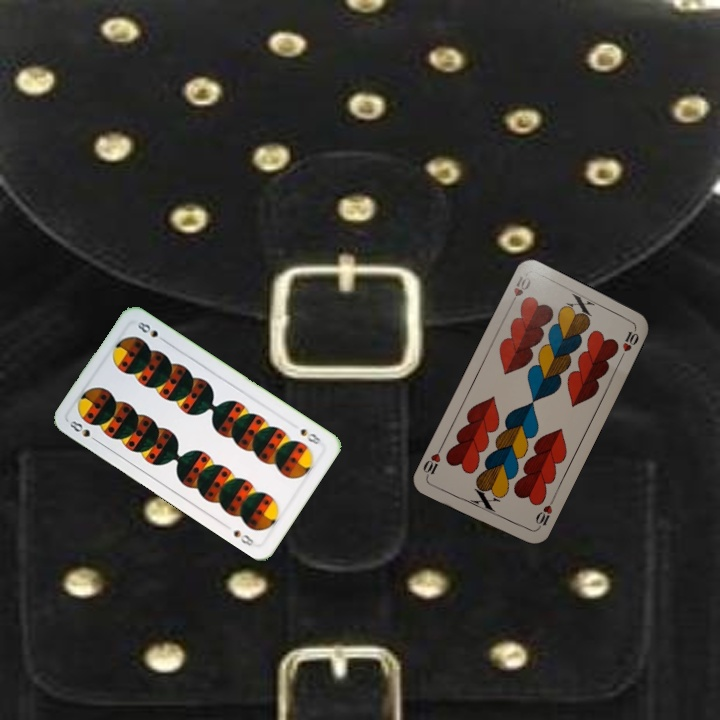H10: (505, 272, 533, 309), (531, 495, 557, 533)
S8: (66, 416, 102, 445), (296, 424, 324, 447)
